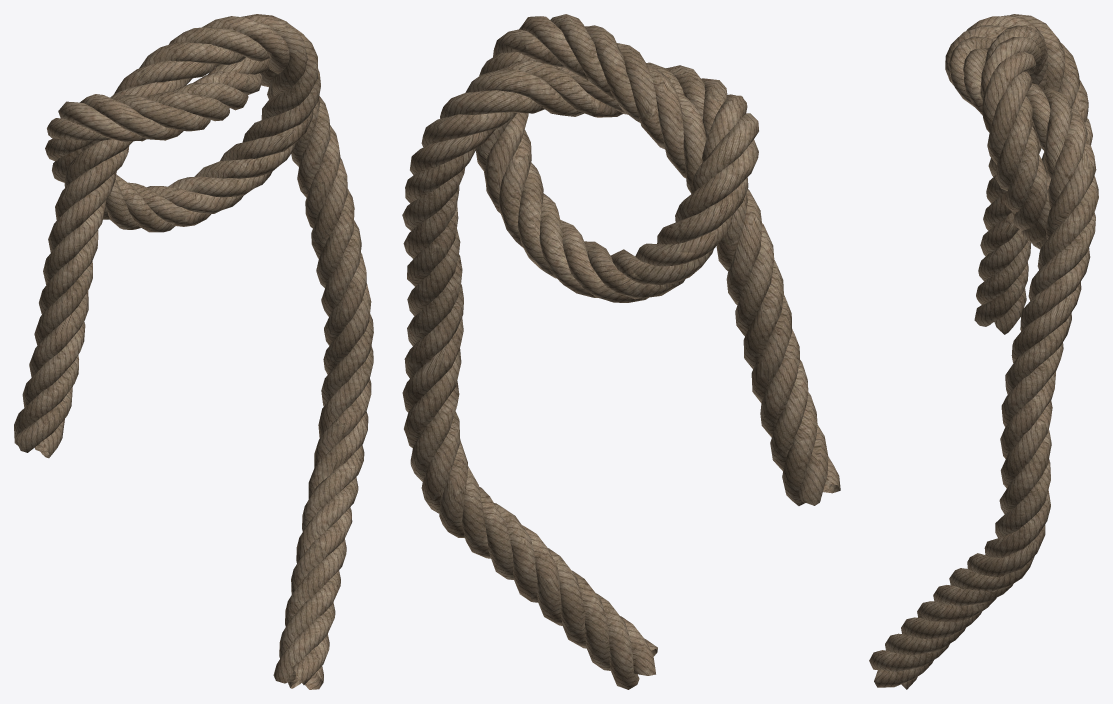
Rendered from rope_coil.glb.
3 renders of one model, left to right at view 1: azimuth 30°, elevation 25°; view 2: azimuth 150°, elevation 25°; view 3: azimuth 270°, elevation 25°, orthographic. The views are drawn at different scales.
Parts seen in each view (by area): view 1: rope_coil; view 2: rope_coil; view 3: rope_coil.
Part boxes in pixels (x1,y1,x2,y2): rope_coil: (14,14,373,689); rope_coil: (402,14,840,689); rope_coil: (869,14,1098,689).
Bounding box in the file's own units: 0.2745 × 0.4503 × 0.1452.
1 material, 1 textured.
